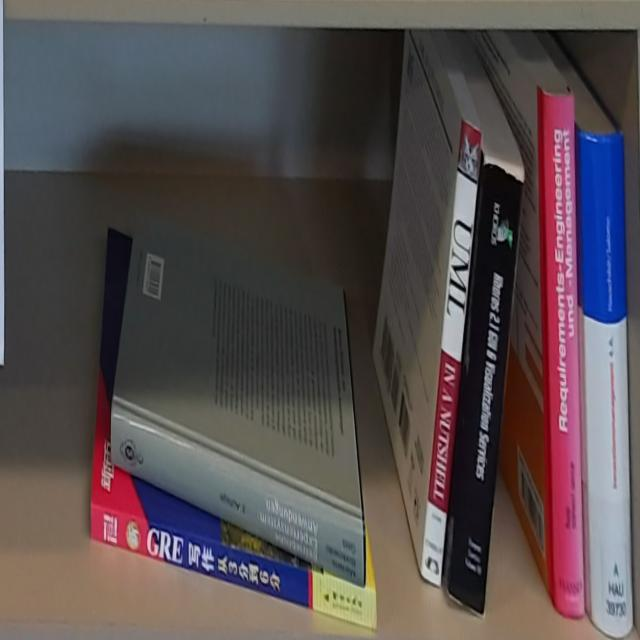Book Spine: (108, 411, 365, 590), (446, 155, 527, 622), (88, 503, 378, 628), (420, 116, 485, 589), (579, 129, 634, 637), (544, 82, 585, 619)
